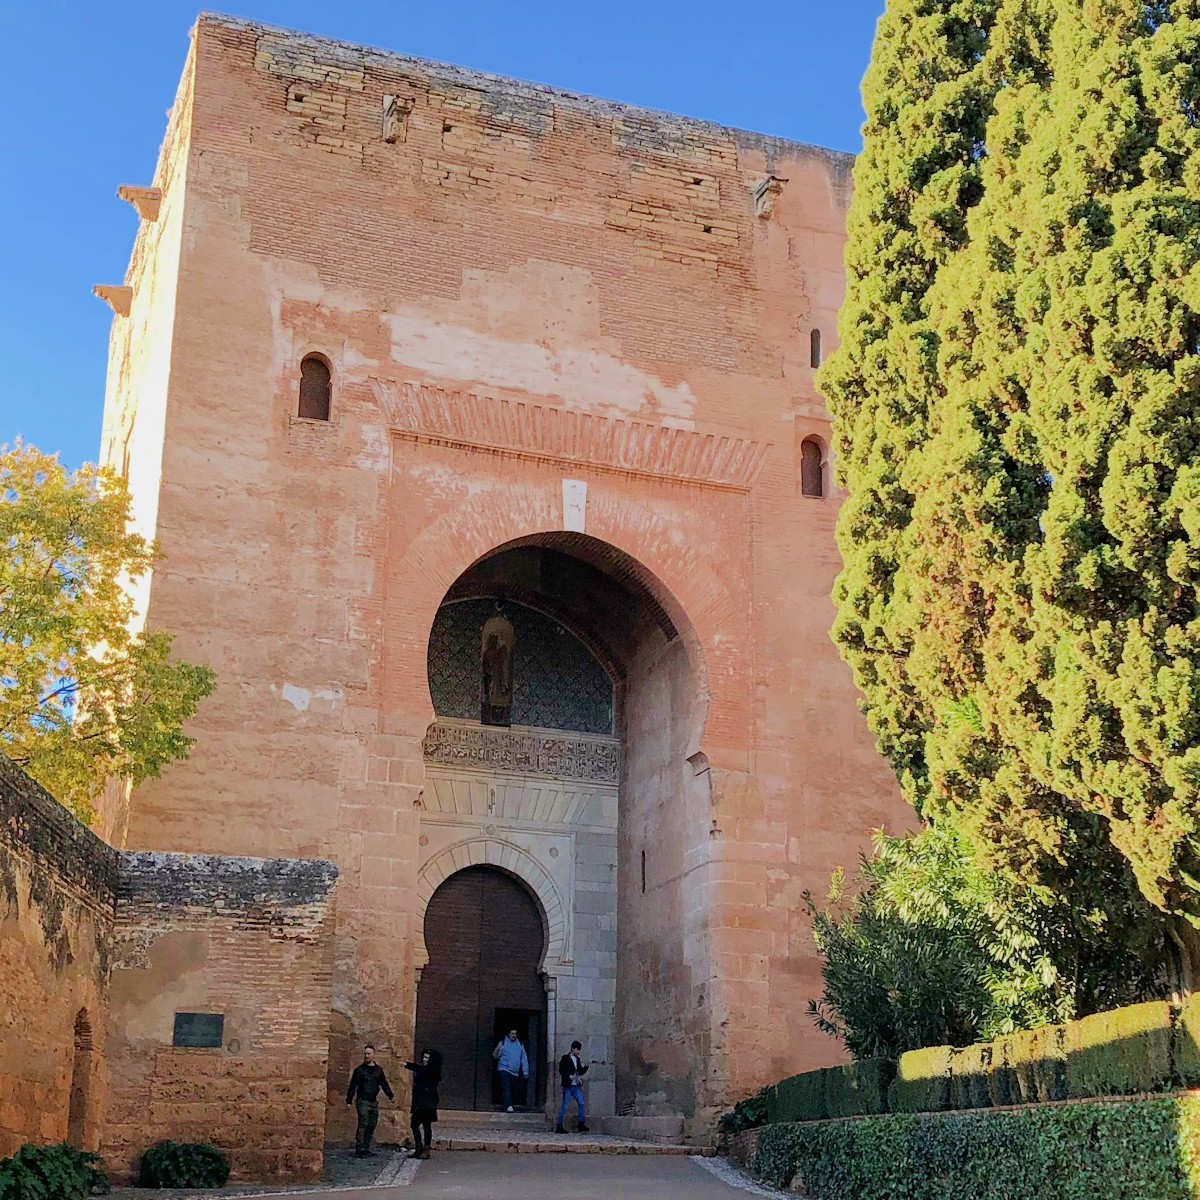arco-herradura: (399, 508, 735, 784), (410, 843, 559, 979)
dintel-adovelado: (366, 373, 774, 492), (421, 776, 590, 823)
